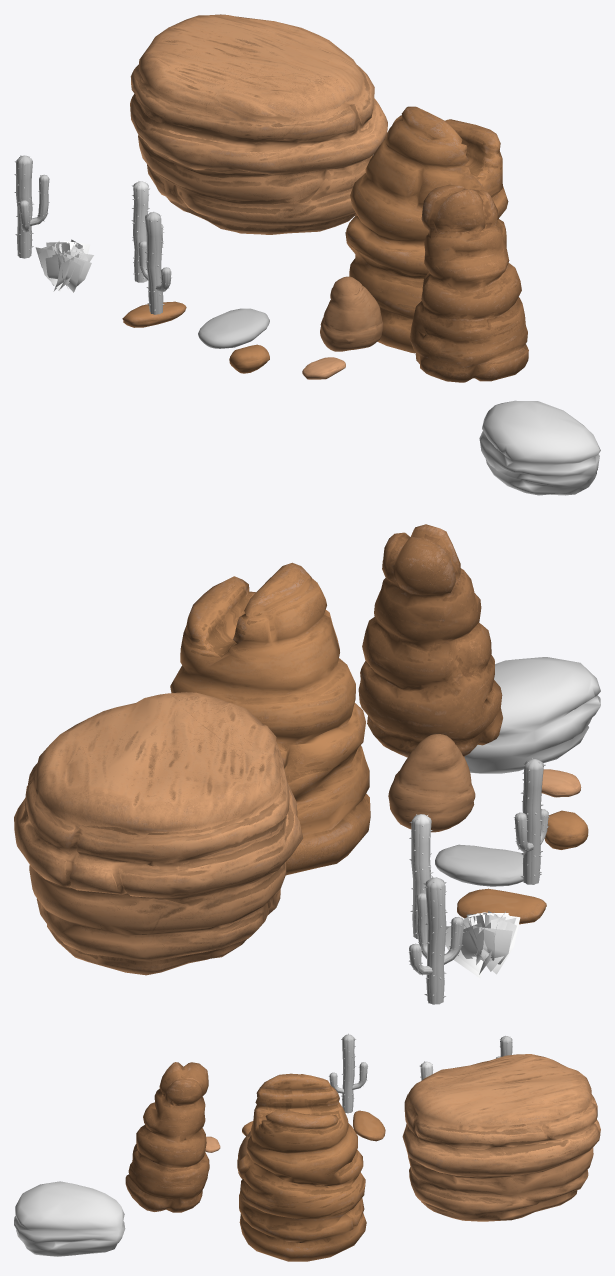
File: assets.fbx
The picture shows the model from 3 angles, top to bottom: view 1: azimuth 30°, elevation 25°; view 2: azimuth 150°, elevation 25°; view 3: azimuth 270°, elevation 25°; orthographic projection. The views are drawn at different scales.
Visible parts, largest first — view 1: Plane.062, Plane.070, Plane.013, Plane.040, Plane.066, Circle.025, tree.018, Cube.089, Circle.029, Circle.028, Cube.087, Cube.000 (+1 smaller); view 2: Plane.062, Plane.070, Plane.013, Plane.040, Plane.066, Circle.025, tree.018, Cube.089, Circle.029, Cube.087, Circle.028, Cube.000 (+1 smaller); view 3: Plane.062, Plane.070, Plane.013, Plane.040, Circle.029, Cube.087.
Part boxes in pixels (box(x1,y1,x2,y2)): Plane.062: box(130, 14, 387, 234); Plane.070: box(345, 106, 508, 353); Plane.013: box(409, 184, 528, 382); Plane.040: box(479, 400, 600, 495); Plane.066: box(320, 276, 382, 351); Circle.025: box(14, 155, 49, 258); tree.018: box(35, 239, 93, 292); Cube.089: box(198, 308, 269, 348); Circle.029: box(137, 211, 171, 314); Circle.028: box(131, 181, 163, 282); Cube.087: box(122, 301, 186, 327); Cube.000: box(229, 344, 269, 373); Plane.062: box(14, 692, 303, 975); Plane.070: box(170, 562, 370, 875); Plane.013: box(358, 524, 502, 757); Plane.040: box(464, 657, 600, 773); Plane.066: box(388, 734, 475, 832); Circle.025: box(409, 876, 464, 1004); tree.018: box(445, 911, 520, 978); Cube.089: box(435, 844, 523, 886); Circle.029: box(514, 757, 549, 884); Cube.087: box(457, 888, 546, 924); Circle.028: box(409, 814, 433, 938); Cube.000: box(544, 810, 588, 849); Plane.062: box(402, 1054, 600, 1221); Plane.070: box(237, 1073, 366, 1261); Plane.013: box(125, 1062, 209, 1212); Plane.040: box(14, 1181, 125, 1256); Circle.029: box(329, 1033, 367, 1113); Cube.087: box(353, 1110, 385, 1141).
Size of the model in its own units: 916 by 597 by 1695.
